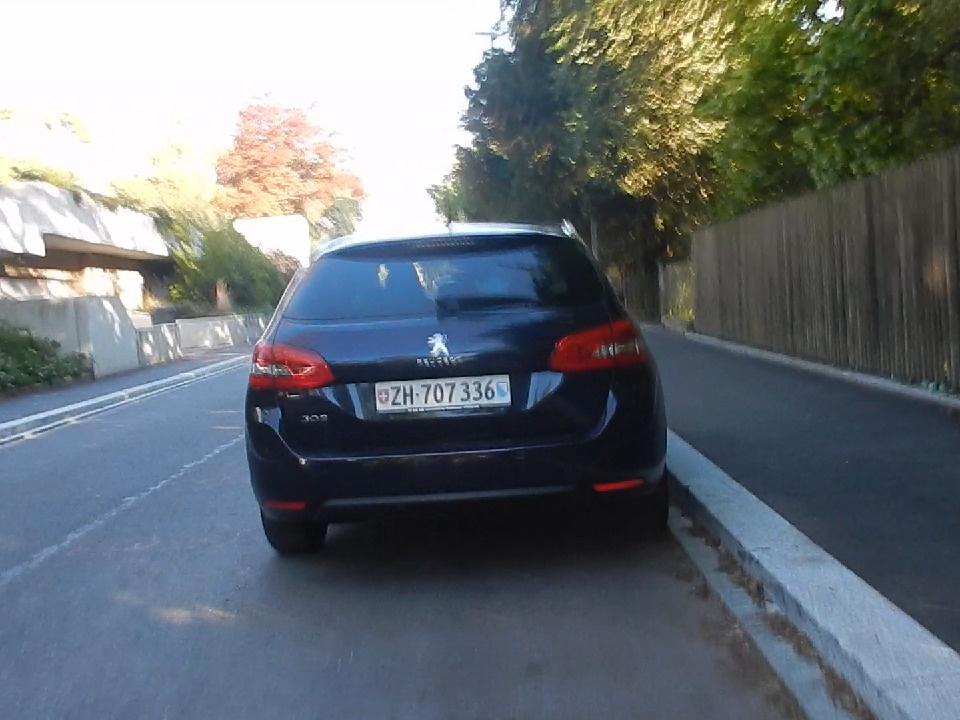car: (228, 215, 693, 572)
